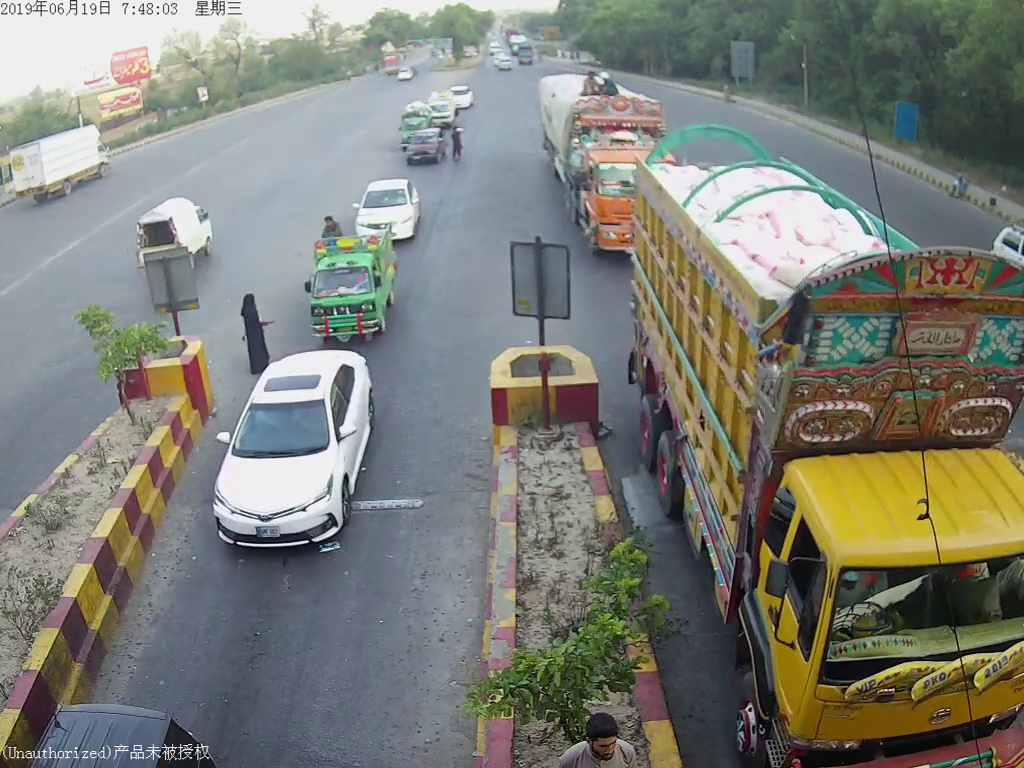Cat-1: (209, 349, 379, 545), (302, 222, 396, 341), (352, 183, 424, 241)
Cat-4: (635, 130, 1018, 768)
Cat-5: (531, 61, 662, 252)
